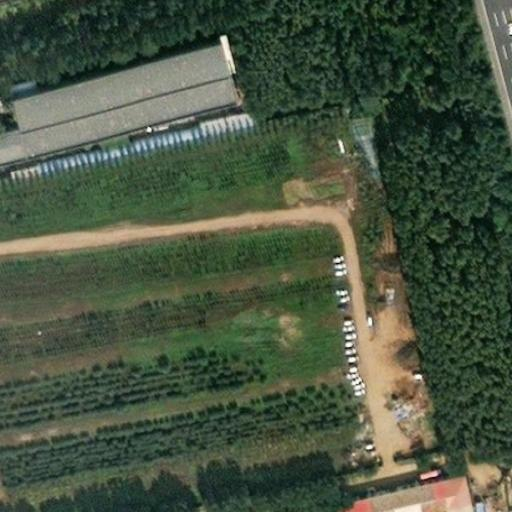building: (1, 14, 234, 135), (319, 455, 467, 512), (470, 495, 489, 512)
